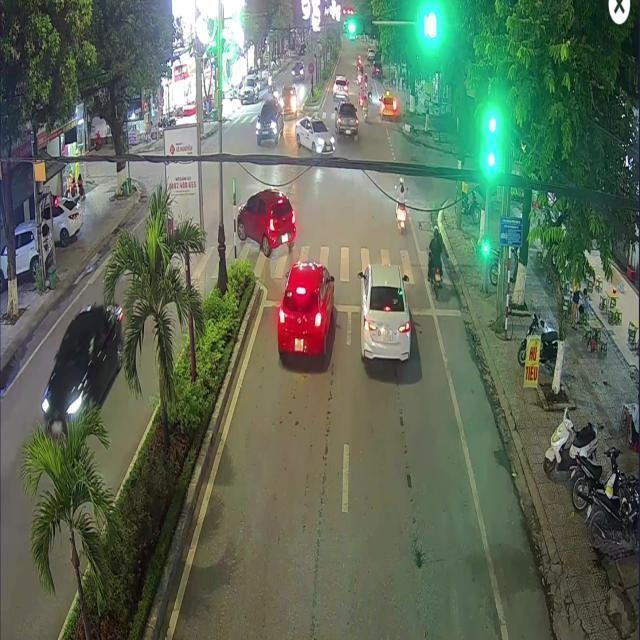car: (276, 262, 334, 359), (358, 263, 411, 361), (236, 188, 296, 256)
green_light: (484, 110, 498, 172), (345, 13, 372, 38)
stop_line: (262, 299, 460, 316)
